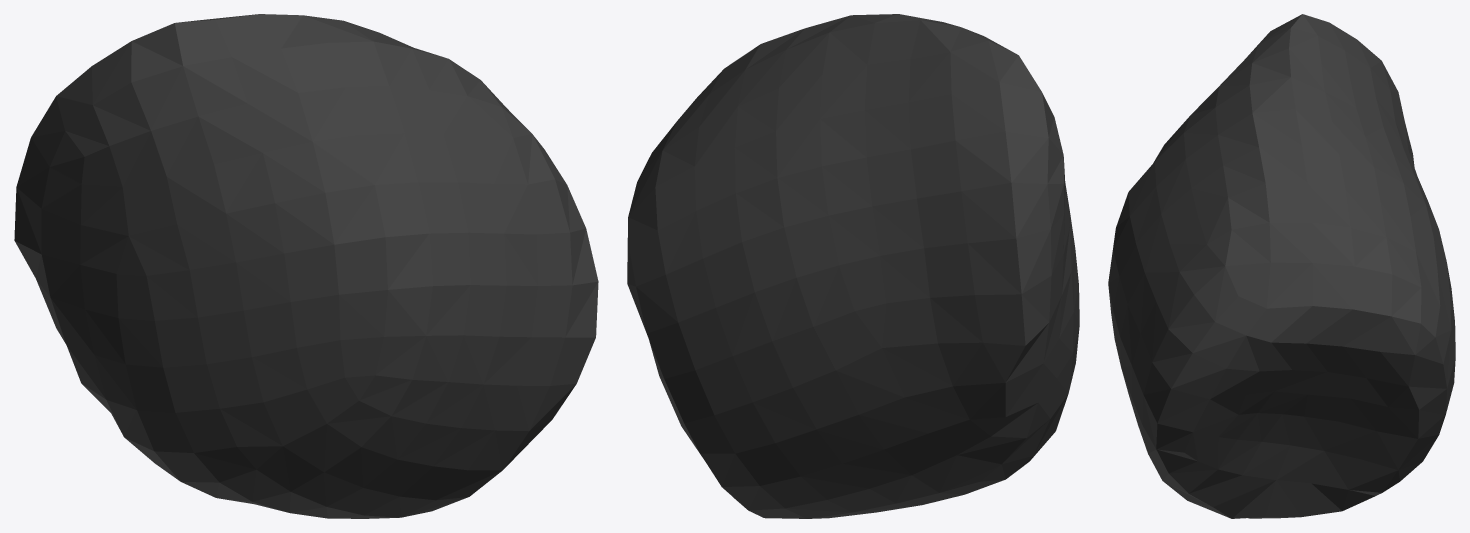
The model's file is VENA_CAVA_CAUDAL.glb.
The picture shows the model from 3 angles, left to right: view 1: azimuth 30°, elevation 25°; view 2: azimuth 150°, elevation 25°; view 3: azimuth 270°, elevation 25°; orthographic projection. The views are drawn at different scales.
Visible parts, largest first — view 1: VENA_CAVA_CAUDAL; view 2: VENA_CAVA_CAUDAL; view 3: VENA_CAVA_CAUDAL.
Part boxes in pixels (left/top/right/bottom): VENA_CAVA_CAUDAL: left=14, top=14, right=598, bottom=518; VENA_CAVA_CAUDAL: left=627, top=14, right=1079, bottom=518; VENA_CAVA_CAUDAL: left=1108, top=14, right=1455, bottom=518.
Size of the model in its own units: 23.85 by 26.33 by 19.31.
Materials: 1 (1 with a texture image).
